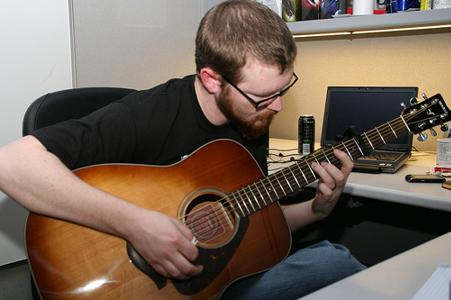person: (3, 4, 368, 298)
